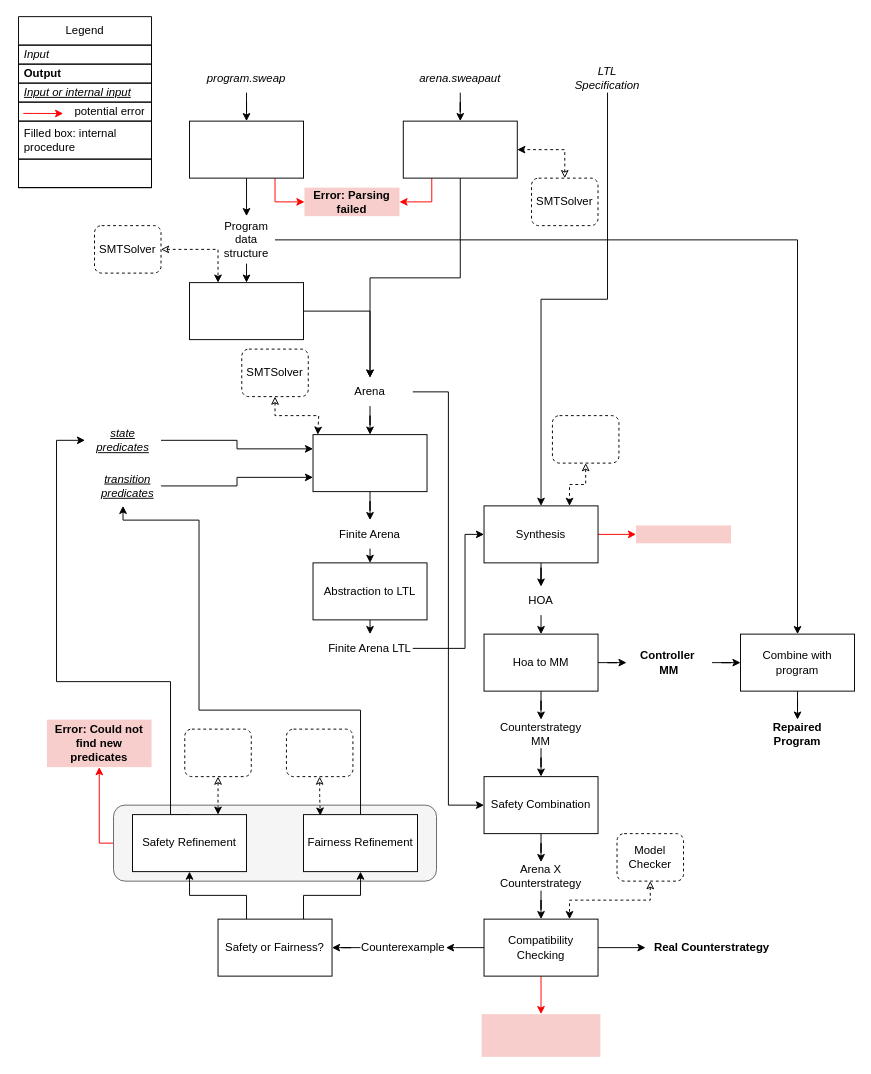
This 871x1074 diagram has some shape labels left out. The centre of each missing label's shape, as x and y in pixels:
Abstraction: (369,463)
Aut parser: (459,149)
Dashed box: external dependency: (85,173)
DSL Parser: (246,149)
Error: Non-termination/timeout: (540,1035)
Error: Timeout: (683,534)
Interpolation Engine: (217,752)
Program to Aut: (246,311)
Synthesis Engine: (585,439)
Termination Checker: (319,752)
